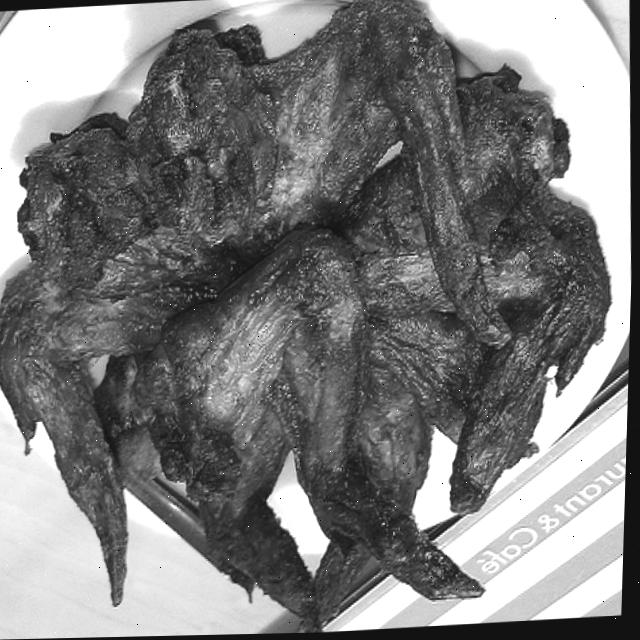鸡肉料理 含炸鸡: (0, 13, 623, 640)
